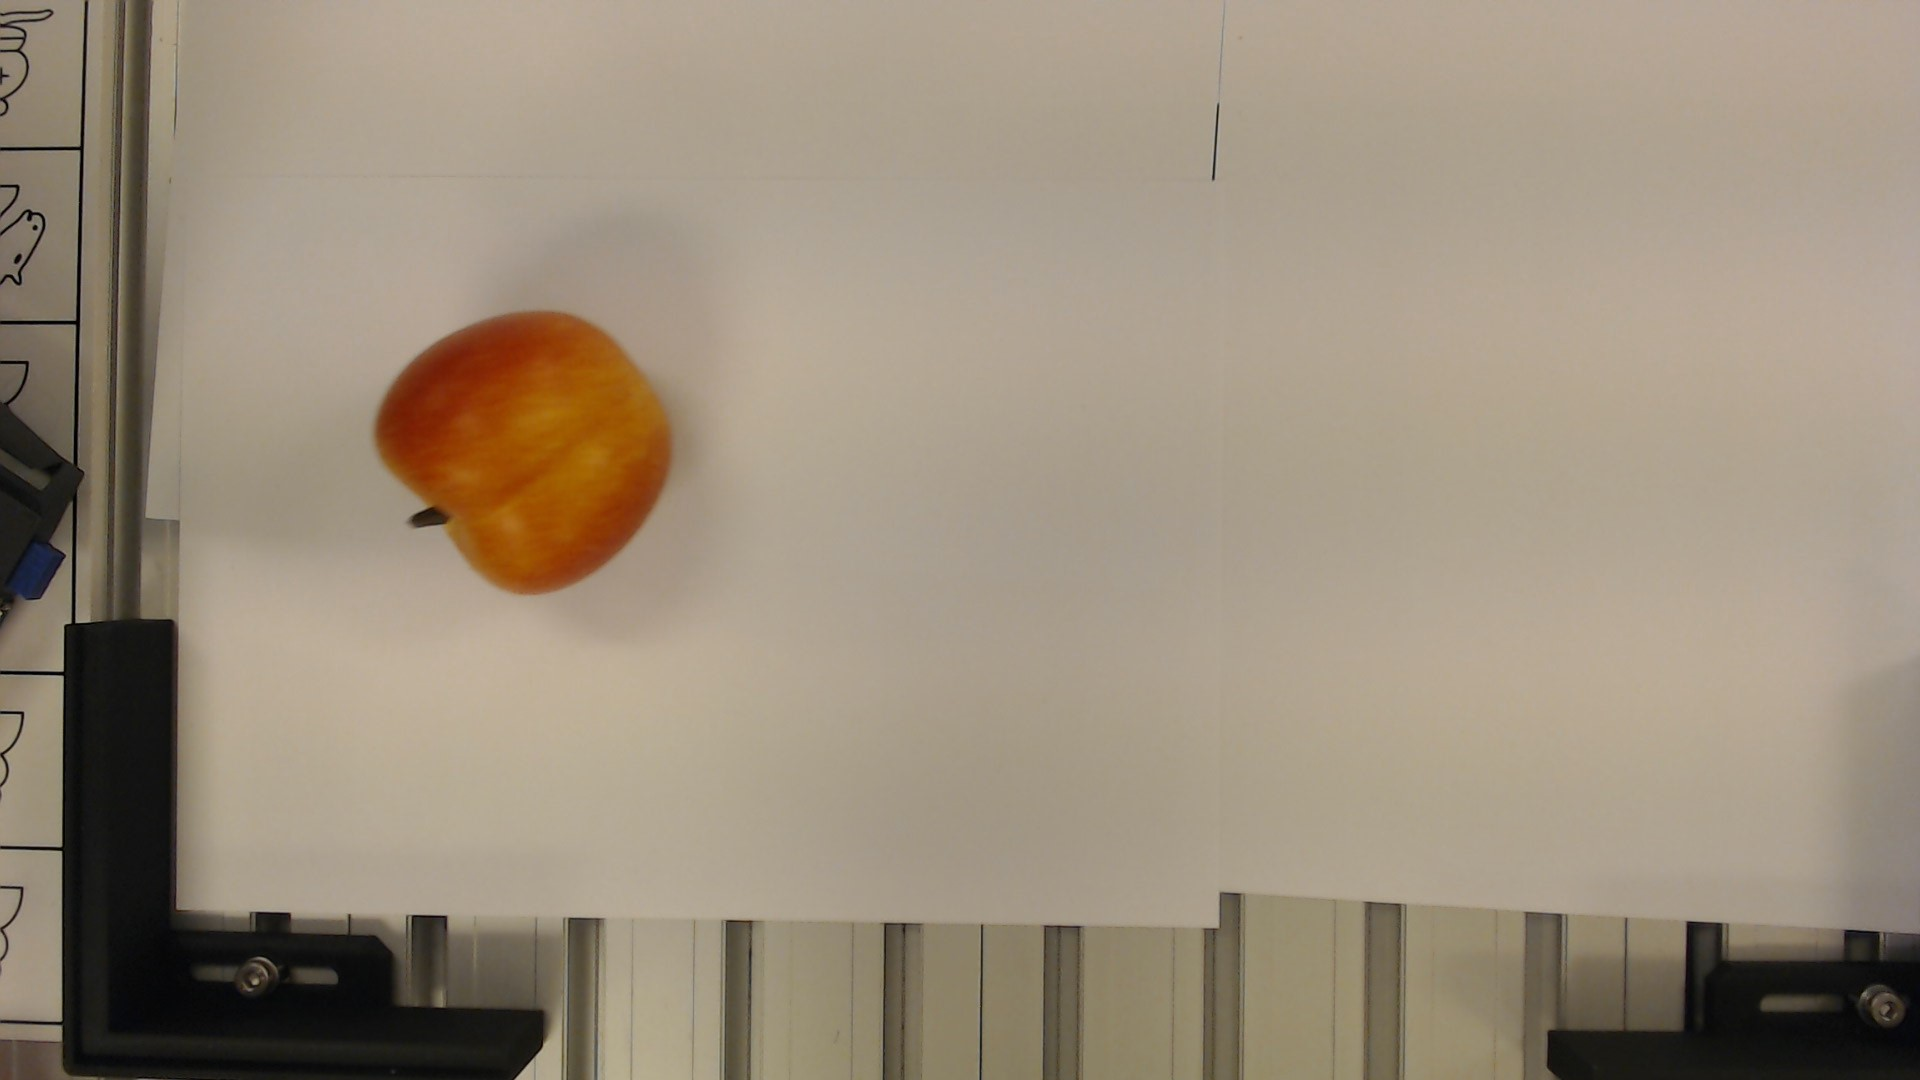Peach: (360, 306, 678, 599)
